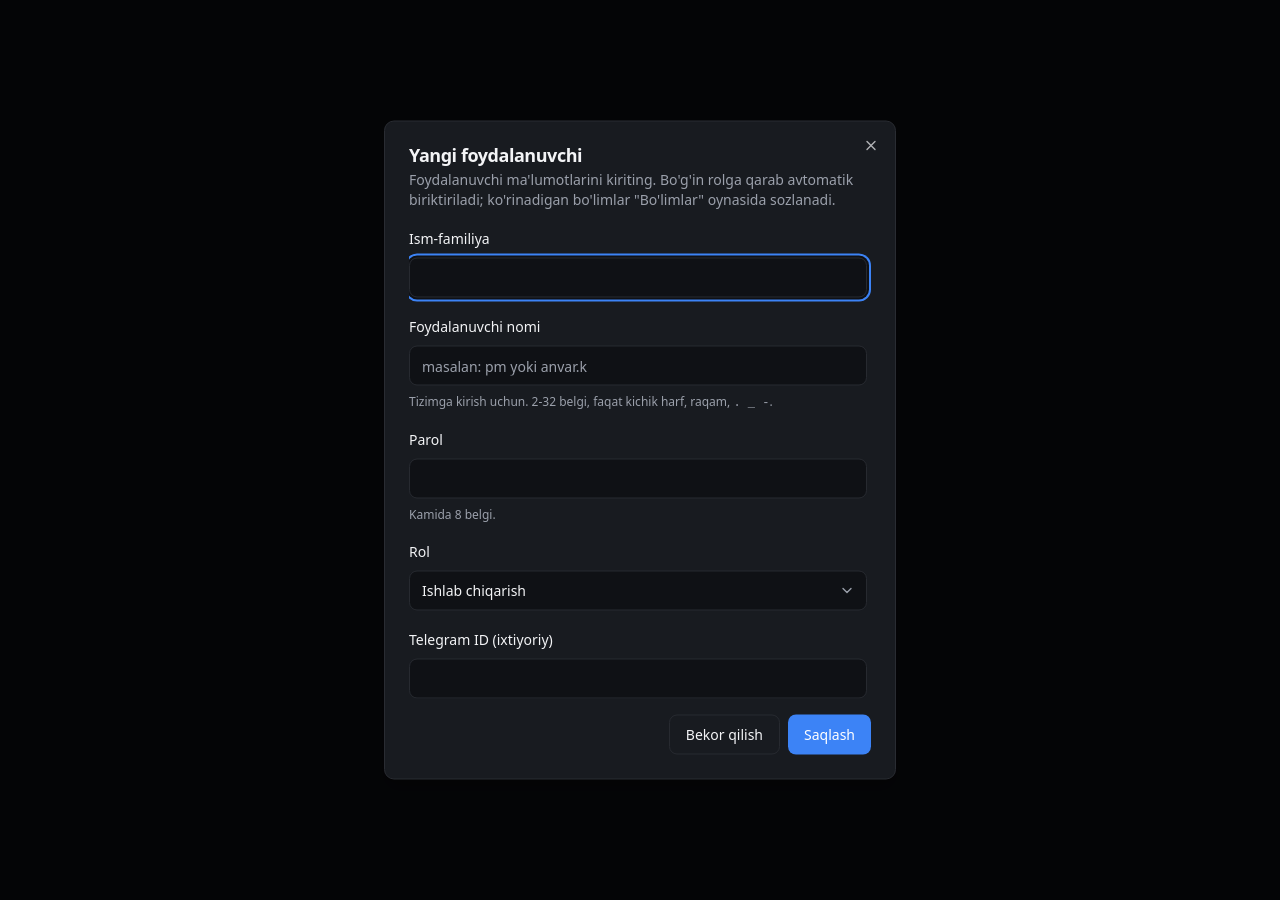
EmployeeFormDialog › rejects an invalid username pattern client-side
Type "Test" into the field labelled "Ism-familiya" at {"x": 638, "y": 278}, box [409,258,867,298]
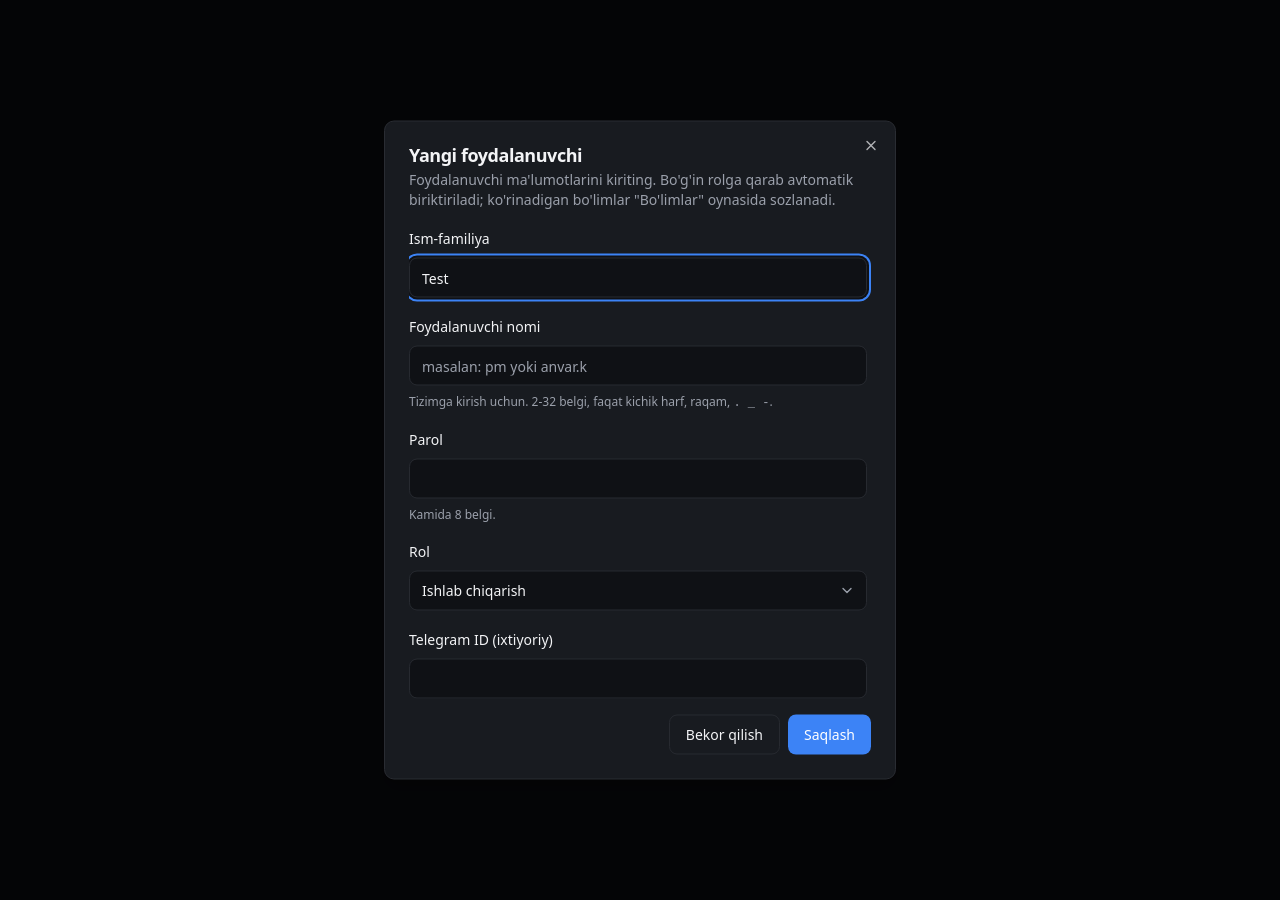
// A space is outside the `[a-z0-9._-]` charset — fails validation.
Type "bad name" into the field labelled "Foydalanuvchi nomi" at {"x": 638, "y": 366}, box [409,346,867,386]
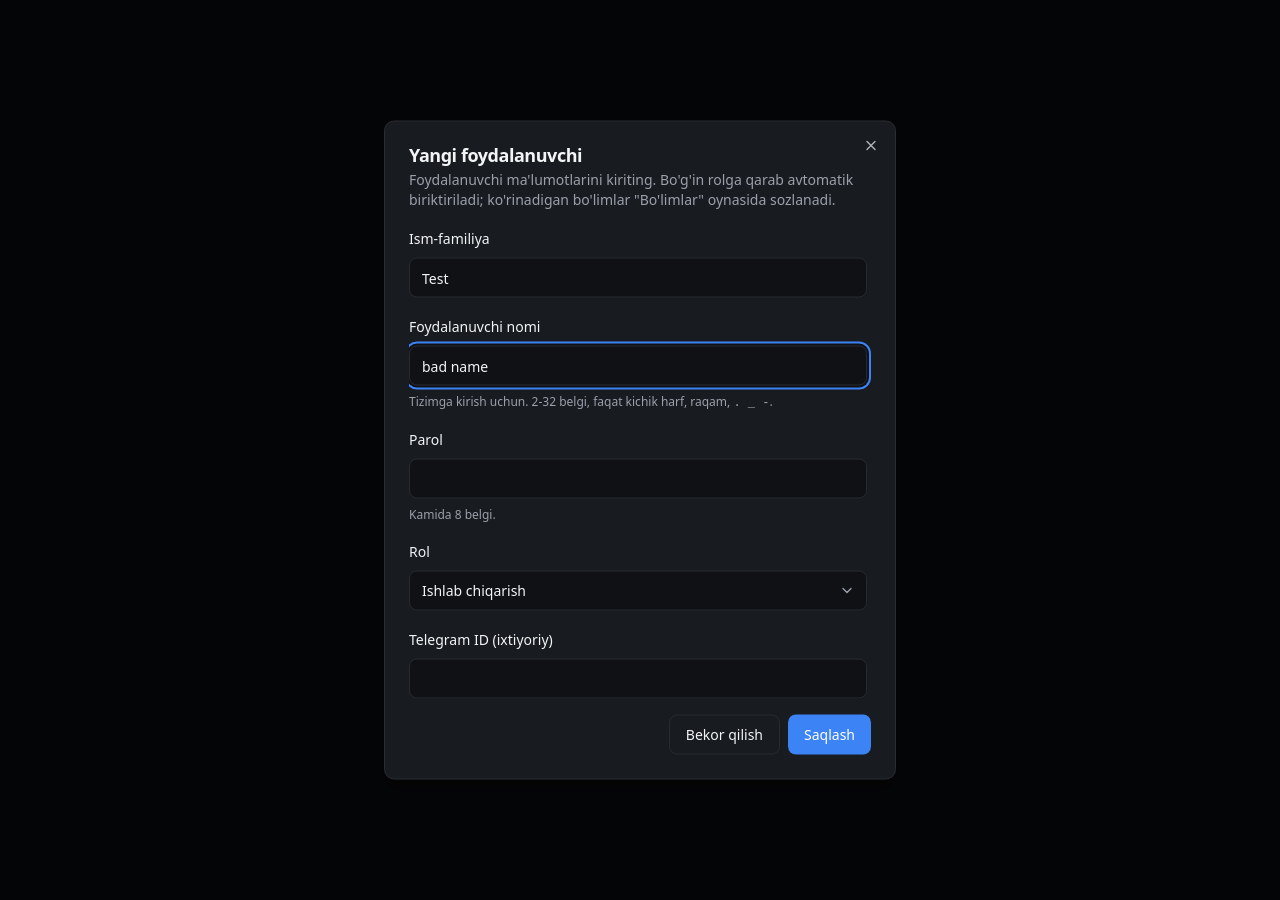
Type "pass1234" into the password field labelled "Parol" at {"x": 638, "y": 478}, box [409,458,867,498]
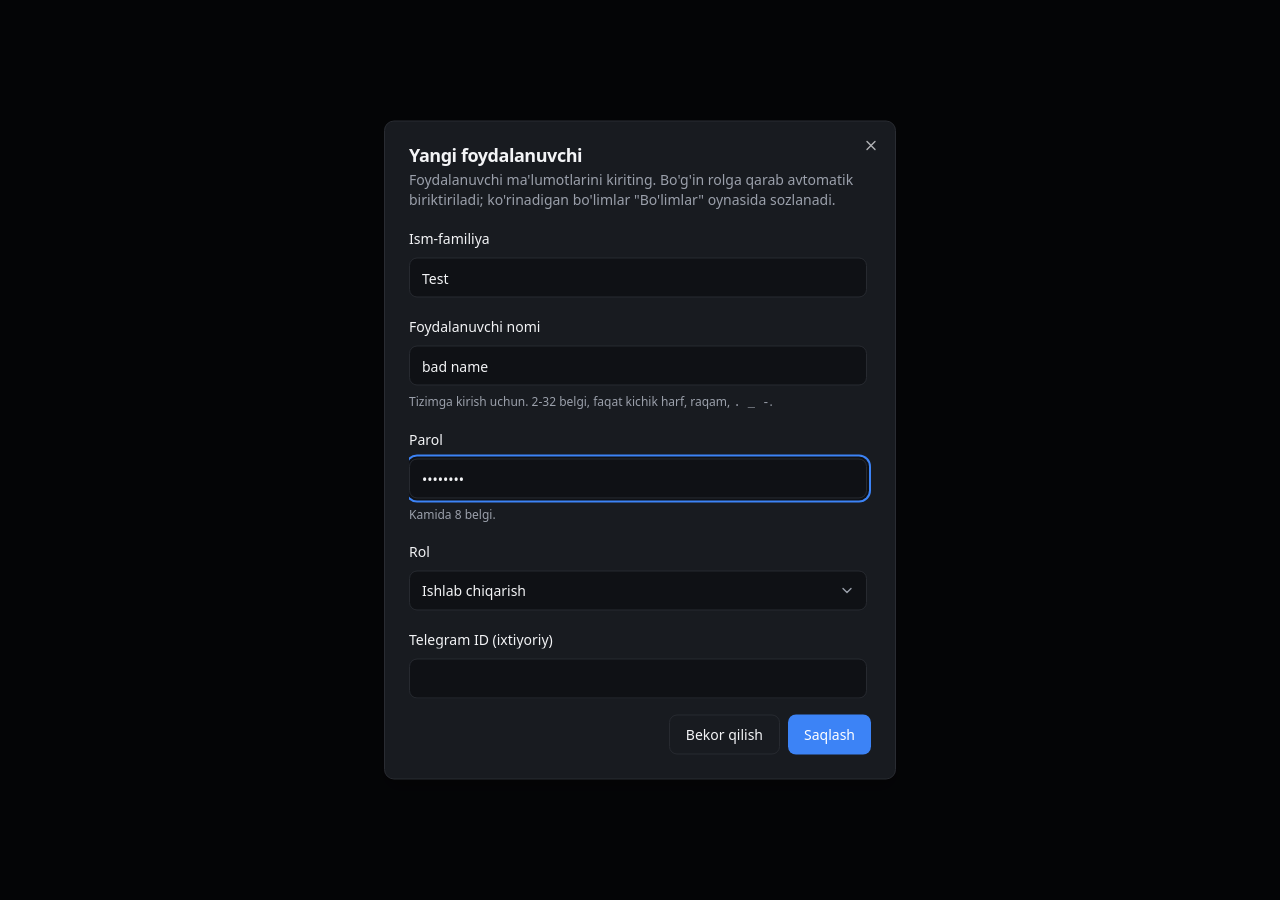
Click the button "Saqlash" at {"x": 830, "y": 734}, box [788,714,871,754]
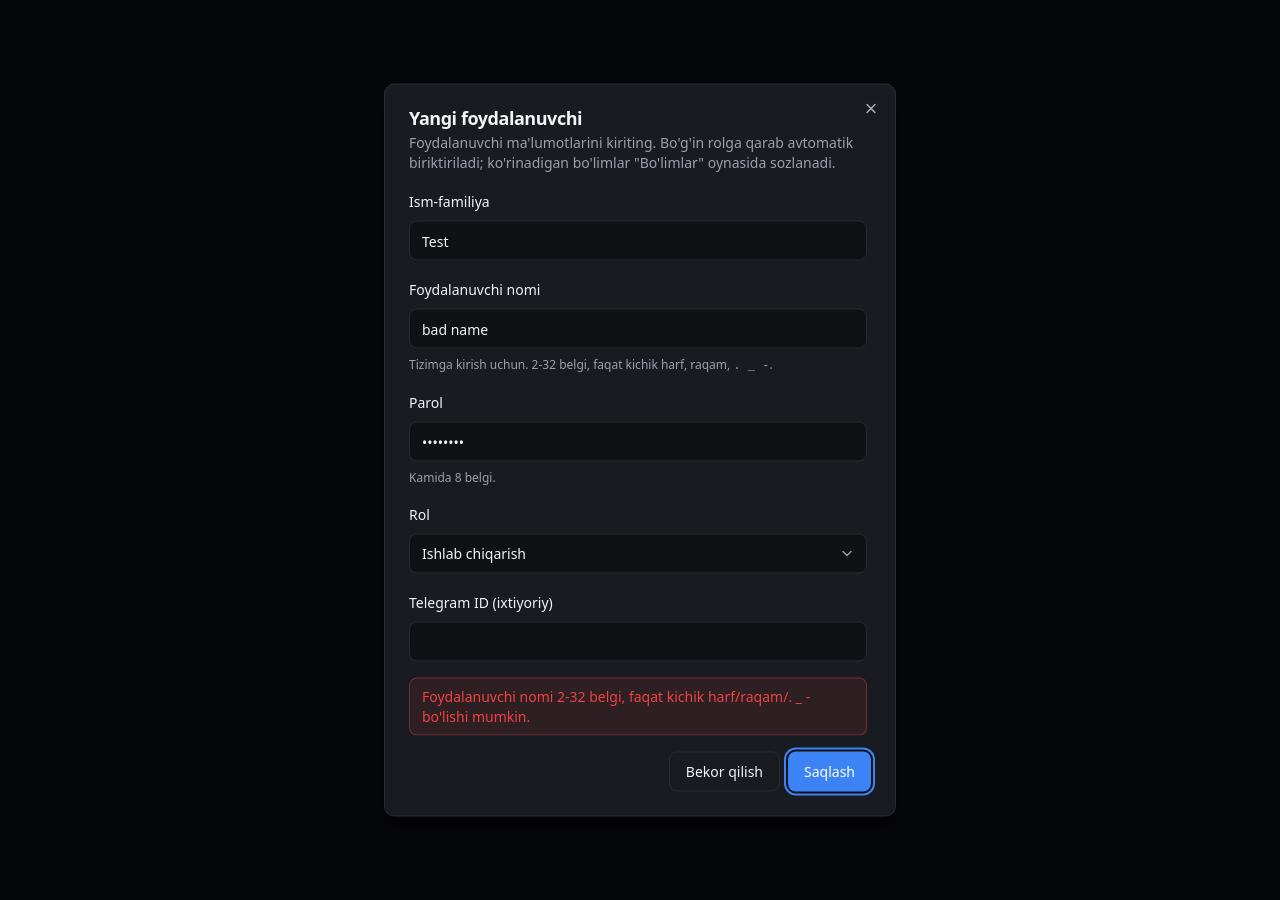
Expected: the message shows "Foydalanuvchi nomi", [422,686,810,726]
